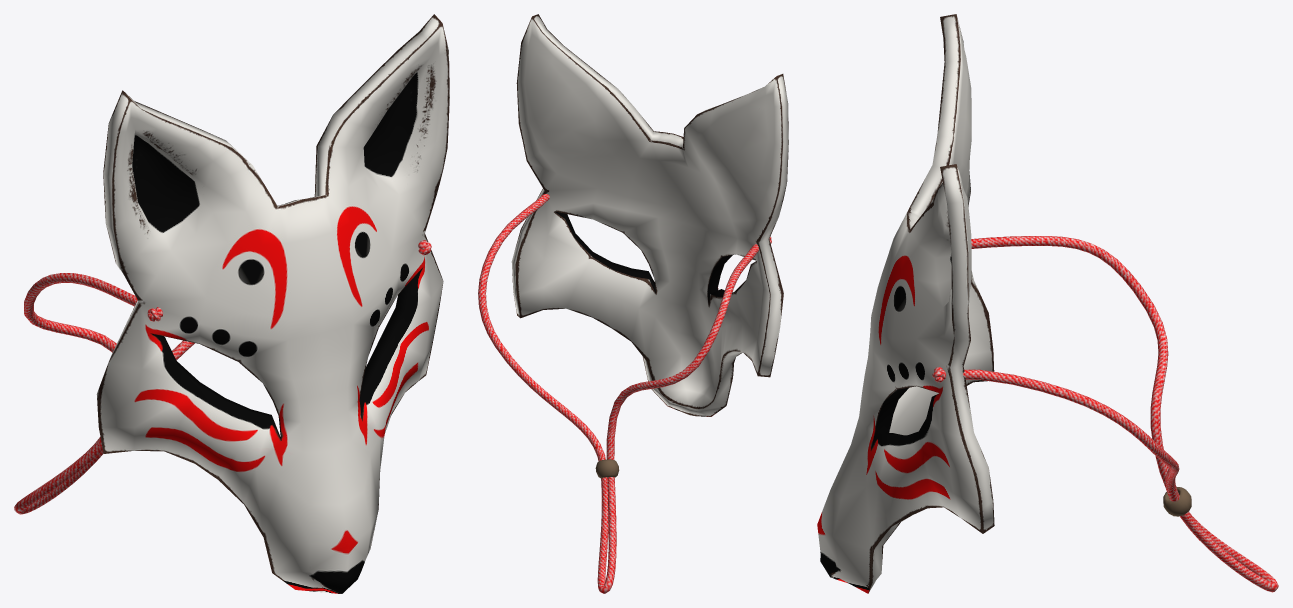
The model's file is inari_fox_mask.glb.
The picture shows the model from 3 angles, left to right: view 1: azimuth 30°, elevation 25°; view 2: azimuth 150°, elevation 25°; view 3: azimuth 270°, elevation 25°; orthographic projection. The views are drawn at different scales.
Visible parts, largest first — view 1: Mask_LOW; view 2: Mask_LOW; view 3: Mask_LOW.
Part boxes in pixels (box(x1,y1,x2,y2)): Mask_LOW: box(14, 14, 449, 593); Mask_LOW: box(478, 14, 788, 593); Mask_LOW: box(817, 14, 1278, 593).
Size of the model in its own units: 1.29 by 2 by 1.53.
1 material, 1 textured.
